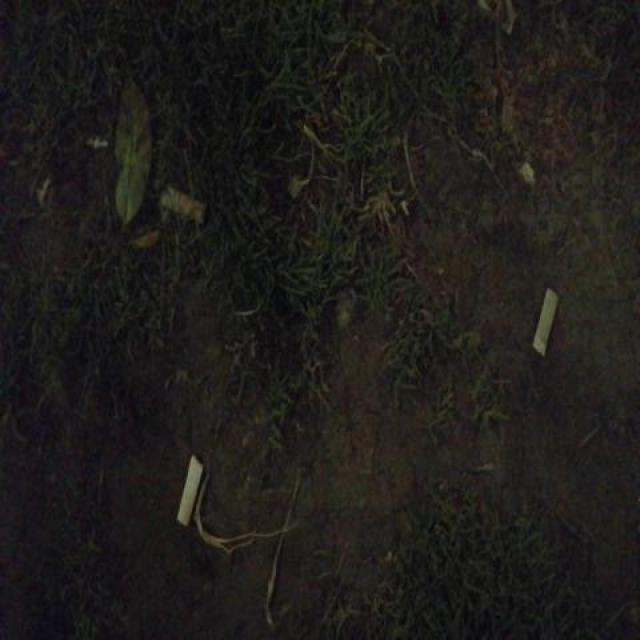non-organic waste: (154, 181, 210, 231), (526, 284, 562, 361), (175, 450, 208, 531)
